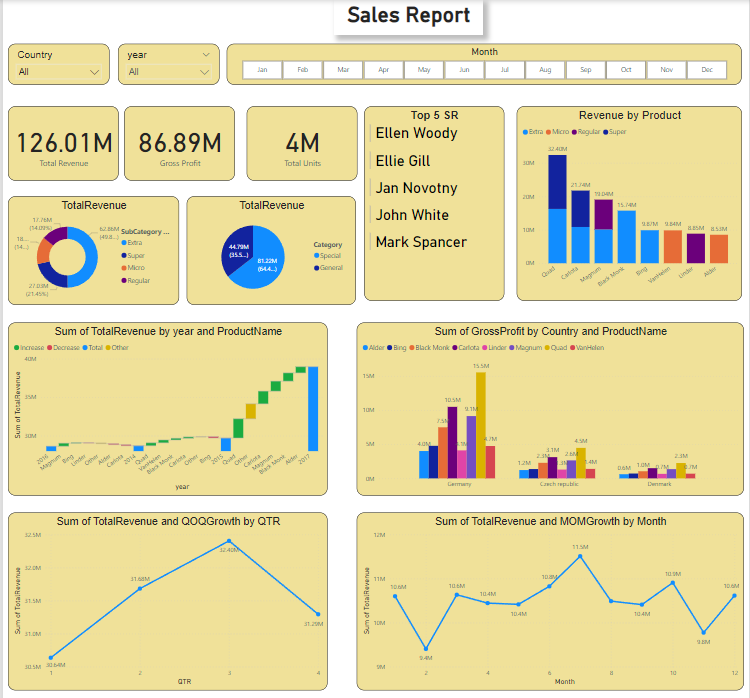

The page's visual inventory and layout, read from the dashboard file:
{"tool":"powerbi","page":{"name":"Page 3","canvas":[1500,1500],"ordinal":2},"visuals":[{"type":"textbox","box":[9.8,0,1490.5,58.7],"z":0},{"type":"slicer","fields":{"Values":["Geography.Country"]},"box":[9.8,88,203.9,82.4],"z":1000},{"type":"slicer","fields":{"Values":["MasterDate.year"]},"box":[231.9,88,203.9,82.4],"z":2000},{"type":"slicer","title":"Month","fields":{"Values":["MasterDate.MonthName"]},"box":[449.8,88,1035.1,82.4],"z":3000},{"type":"card","title":"Total Revenue","fields":{"Values":["Sales.TotalRevenue"]},"box":[9.8,213.7,222.1,149.5],"z":4000},{"type":"card","title":"Gross Profit","fields":{"Values":["Sales.GrossProfit"]},"box":[243.1,213.7,222.1,149.5],"z":5000},{"type":"card","title":"Units","fields":{"Values":["Sales.Units"]},"box":[488.9,213.7,222.1,149.5],"z":6000},{"type":"pieChart","title":"TotalRevenue","fields":{"Category":["SubCategory.SubCategory Name"],"Y":["Sales.TotalRevenue"]},"box":[9.8,396.7,280.8,219.3],"z":7000},{"type":"pieChart","title":"TotalRevenue","fields":{"Category":["Categories.Category","SubCategory.SubCategory Name"],"Y":["Sales.TotalRevenue"]},"box":[333.9,398.1,280.8,219.3],"z":8000},{"type":"multiRowCard","title":"Top 5 SR","fields":{"Values":["Sales rep.Sales Rep Name"]},"box":[725.3,213.6,281.5,390.8],"z":9000},{"type":"columnChart","title":"TotalRevenue by Produc,SubCategory","fields":{"Category":["product.ProductName"],"Y":["Sales.TotalRevenue"],"Series":["SubCategory.SubCategory Name"]},"box":[1032,214,453,391],"z":9001},{"type":"waterfallChart","fields":{"Category":["MasterDate.year"],"Breakdown":["product.ProductName"],"Y":["Sales.TotalRevenue"]},"box":[9.9,649.1,642.5,347.8],"z":9002},{"type":"clusteredColumnChart","fields":{"Category":["Geography.Country"],"Y":["Sales.GrossProfit"],"Series":["product.ProductName"]},"box":[710.4,649.1,778.3,347.8],"z":9003},{"type":"lineChart","fields":{"Y":["Sales.TotalRevenue"],"Category":["MasterDate.QTR"]},"box":[9.9,1031.7,642.5,357.7],"z":9004},{"type":"lineChart","fields":{"Y":["Sales.TotalRevenue"],"Category":["MasterDate.Month"]},"box":[710.4,1031.7,778.3,357.7],"z":9005}]}

Visuals, with their boxes on the page's 1500x1500 design canvas (x1, y1, x2, y2). These are canvas units, not pixel positions in the 750x698 screenshot, which may show the page scaled, cropped or inside an application window:
textbox: <bbox>10, 0, 1500, 59</bbox>
slicer - Geography.Country: <bbox>10, 88, 214, 170</bbox>
slicer - MasterDate.year: <bbox>232, 88, 436, 170</bbox>
"Month" slicer: <bbox>450, 88, 1485, 170</bbox>
"Total Revenue" card: <bbox>10, 214, 232, 363</bbox>
"Gross Profit" card: <bbox>243, 214, 465, 363</bbox>
"Units" card: <bbox>489, 214, 711, 363</bbox>
"TotalRevenue" pieChart: <bbox>10, 397, 291, 616</bbox>
"TotalRevenue" pieChart: <bbox>334, 398, 615, 617</bbox>
"Top 5 SR" multiRowCard: <bbox>725, 214, 1007, 604</bbox>
"TotalRevenue by Produc,SubCategory" columnChart: <bbox>1032, 214, 1485, 605</bbox>
waterfallChart - MasterDate.year x product.ProductName: <bbox>10, 649, 652, 997</bbox>
clusteredColumnChart - Geography.Country x Sales.GrossProfit: <bbox>710, 649, 1489, 997</bbox>
lineChart - Sales.TotalRevenue x MasterDate.QTR: <bbox>10, 1032, 652, 1389</bbox>
lineChart - Sales.TotalRevenue x MasterDate.Month: <bbox>710, 1032, 1489, 1389</bbox>
